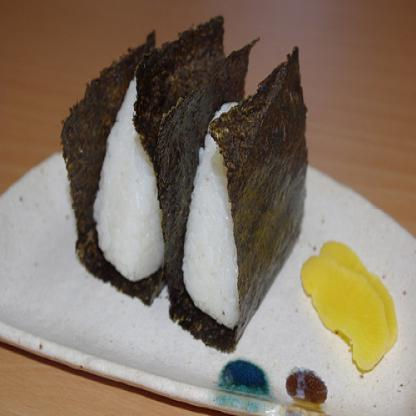rice roll: (191, 51, 298, 336), (79, 28, 184, 305)
